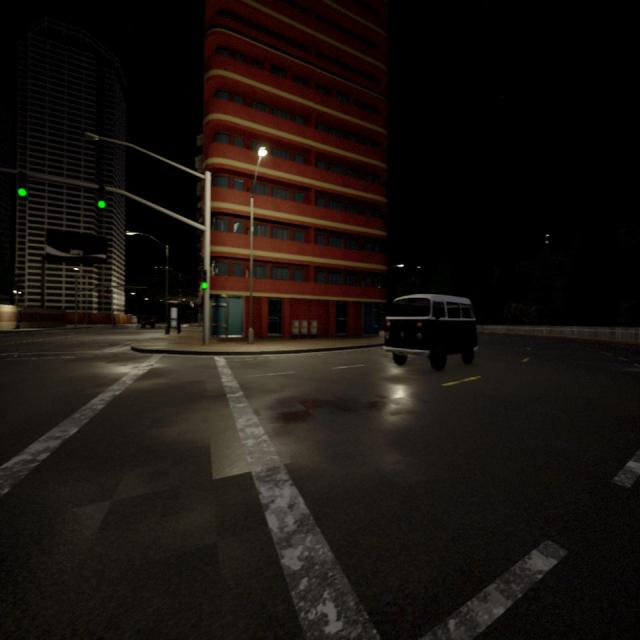Vehicle: (384, 294, 476, 370), (141, 313, 156, 330)
traffic_light: (17, 172, 28, 197), (98, 184, 106, 210), (201, 270, 208, 290), (160, 297, 163, 303)
